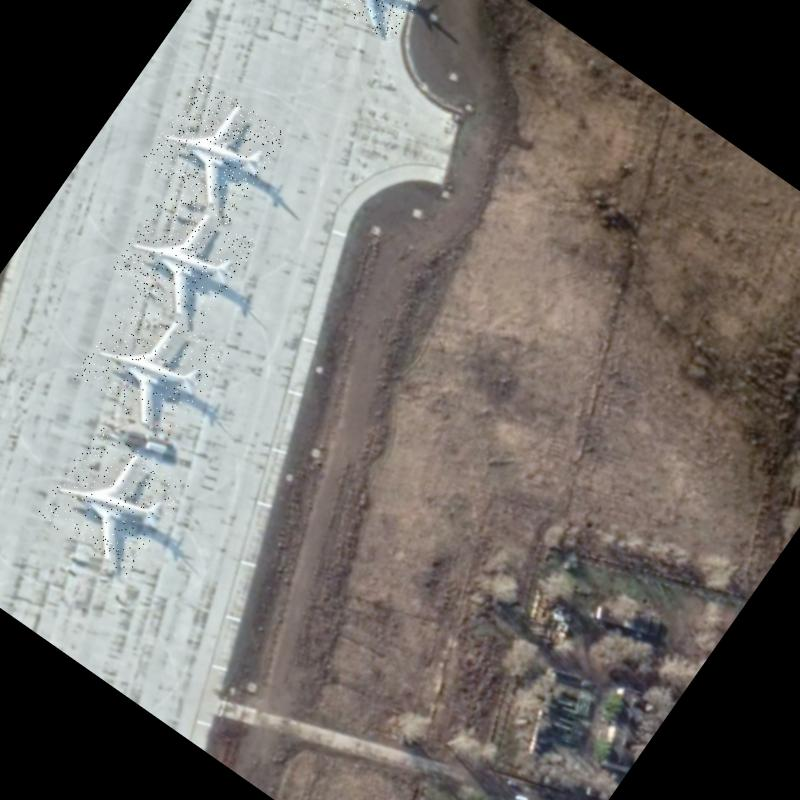A17: (71, 286, 230, 444), (35, 423, 189, 578), (110, 182, 258, 330), (140, 75, 289, 222)
A6: (312, 0, 443, 44)
